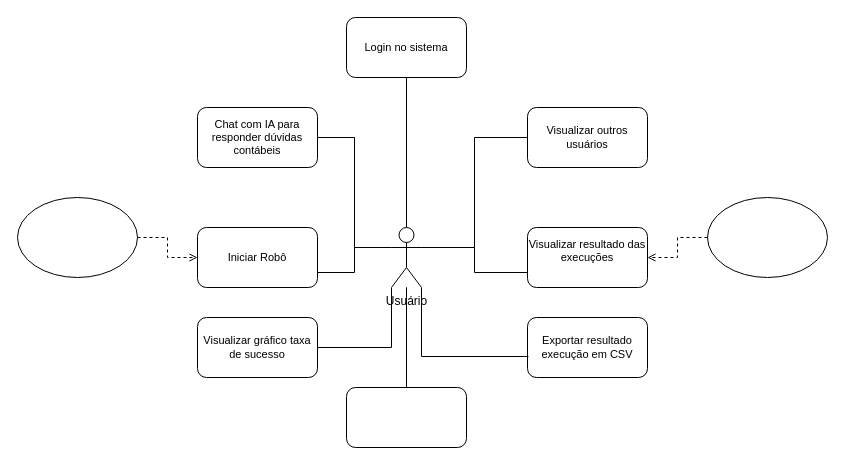
This 845x465 diagram has some shape labels left out. The centre of each missing label's shape, as x and y in pixels:
"Definir hora de execução" belongs at pixel 77 237.
"Filtrar visualização" belongs at pixel 767 237.
"Visualizar Fila de execução dos robôs" belongs at pixel 406 417.
